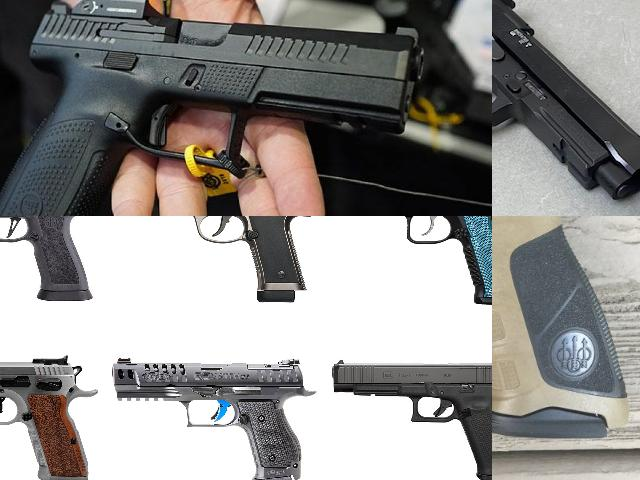handgun: (0, 0, 428, 216), (492, 216, 640, 443), (492, 0, 640, 209), (109, 355, 320, 480), (328, 358, 492, 480), (112, 216, 313, 306), (327, 216, 492, 307), (0, 353, 99, 480), (0, 216, 96, 306)
